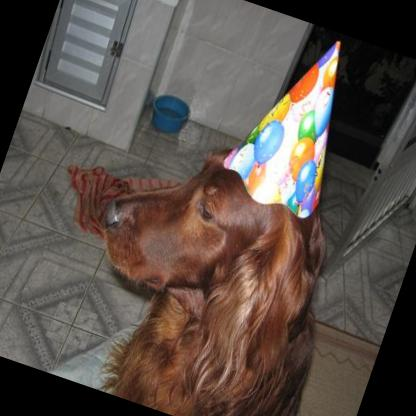Irish_setter: (50, 114, 373, 416)
